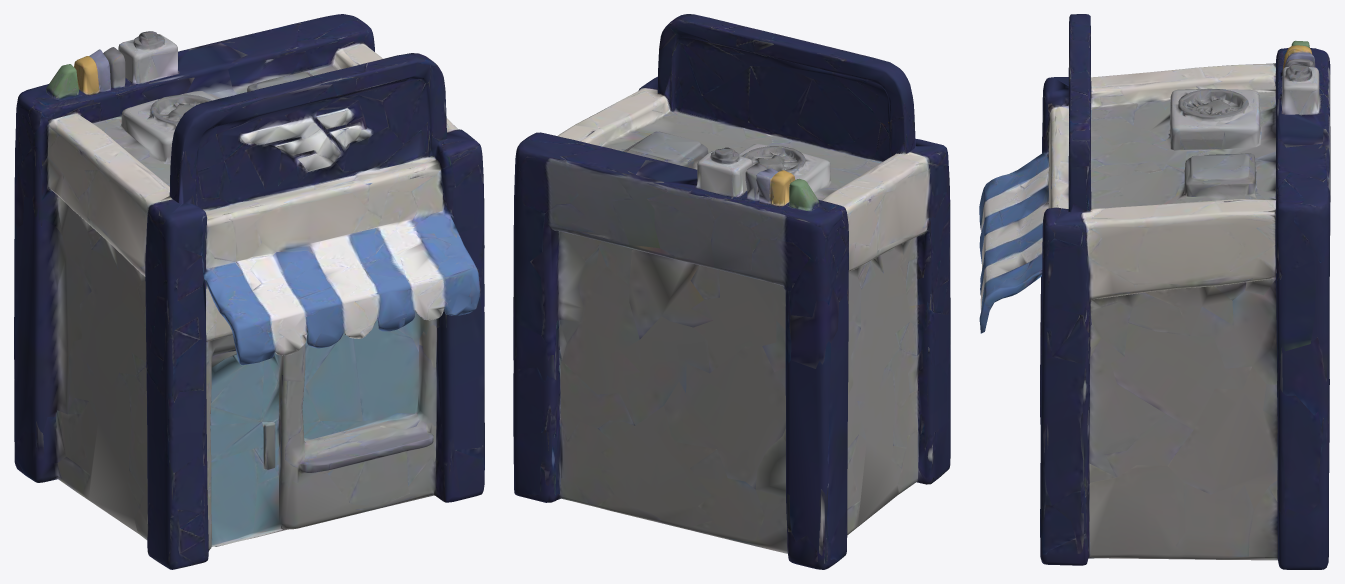
File: market.glb
3 views of the same model, side by side, from view 1: azimuth 30°, elevation 25°; view 2: azimuth 150°, elevation 25°; view 3: azimuth 270°, elevation 25° (orthographic). The views are drawn at different scales.
Bounding box in the file's own units: 1.55 × 1.9 × 1.42.
1 material, 1 textured.
